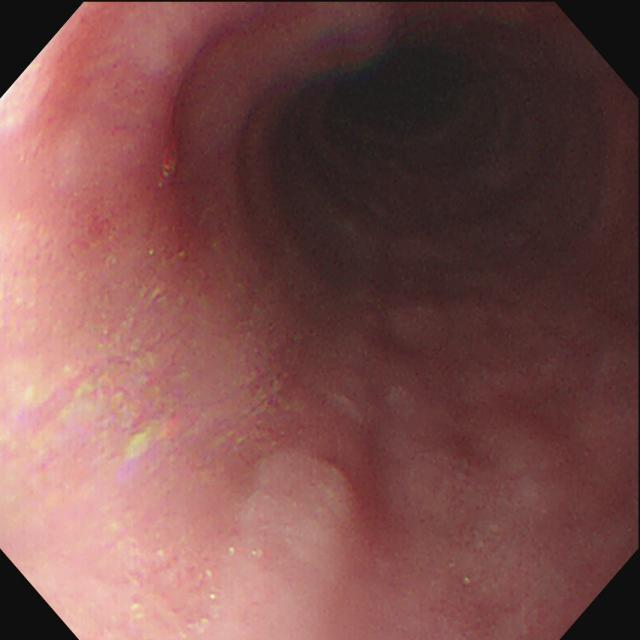E: (348, 55, 459, 130)
